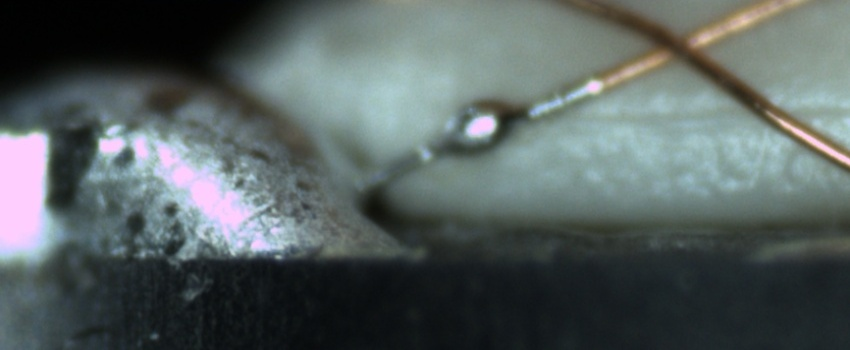CL: (627, 9, 726, 77)
DL: (529, 89, 850, 153)
TB: (441, 96, 526, 160)
TS: (360, 84, 596, 194)
TTCW: (353, 51, 648, 197)
